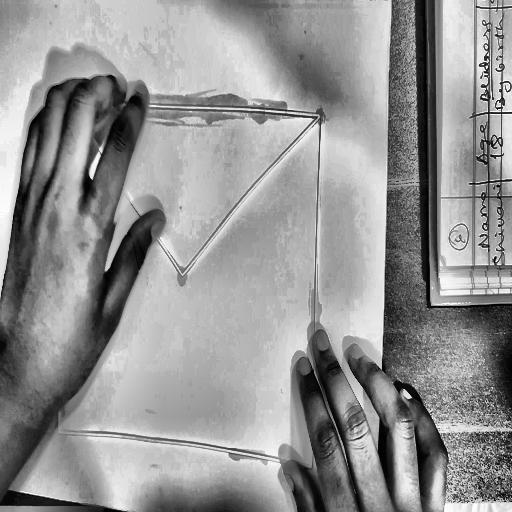envelop: (48, 87, 327, 481)
